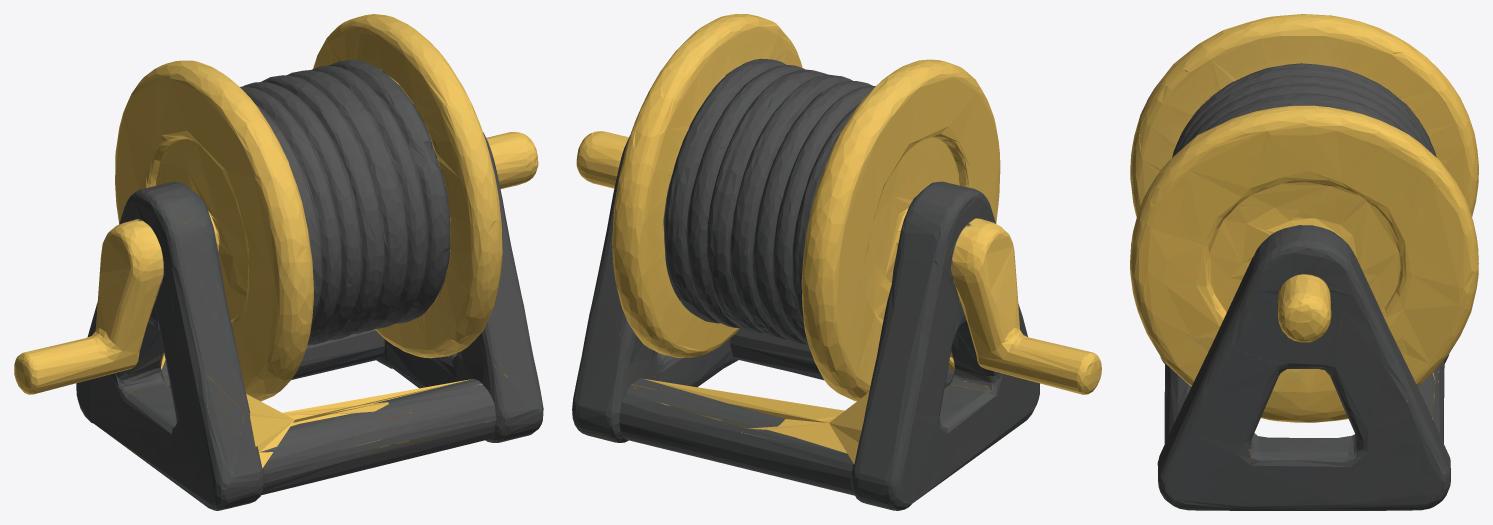
Rendered from cabledrum_v1.glb.
3 renders of one model, left to right at view 1: azimuth 30°, elevation 25°; view 2: azimuth 150°, elevation 25°; view 3: azimuth 270°, elevation 25°, orthographic.
Parts seen in each view (by area): view 1: spool_mesh, stand_mesh, crank_mesh; view 2: spool_mesh, stand_mesh, crank_mesh; view 3: spool_mesh, stand_mesh, crank_mesh.
Boxes of the visible parts, bbox=[...] form: spool_mesh: bbox=[87, 26, 502, 477]; stand_mesh: bbox=[14, 14, 543, 510]; crank_mesh: bbox=[483, 132, 538, 327]; spool_mesh: bbox=[612, 26, 1026, 472]; stand_mesh: bbox=[572, 14, 1101, 510]; crank_mesh: bbox=[576, 131, 629, 281]; spool_mesh: bbox=[1130, 14, 1478, 400]; stand_mesh: bbox=[1151, 105, 1457, 510]; crank_mesh: bbox=[1192, 226, 1400, 392].
Bounding box in the file's own units: 0.9 × 0.6349 × 0.5381.
1 material, 1 textured.
